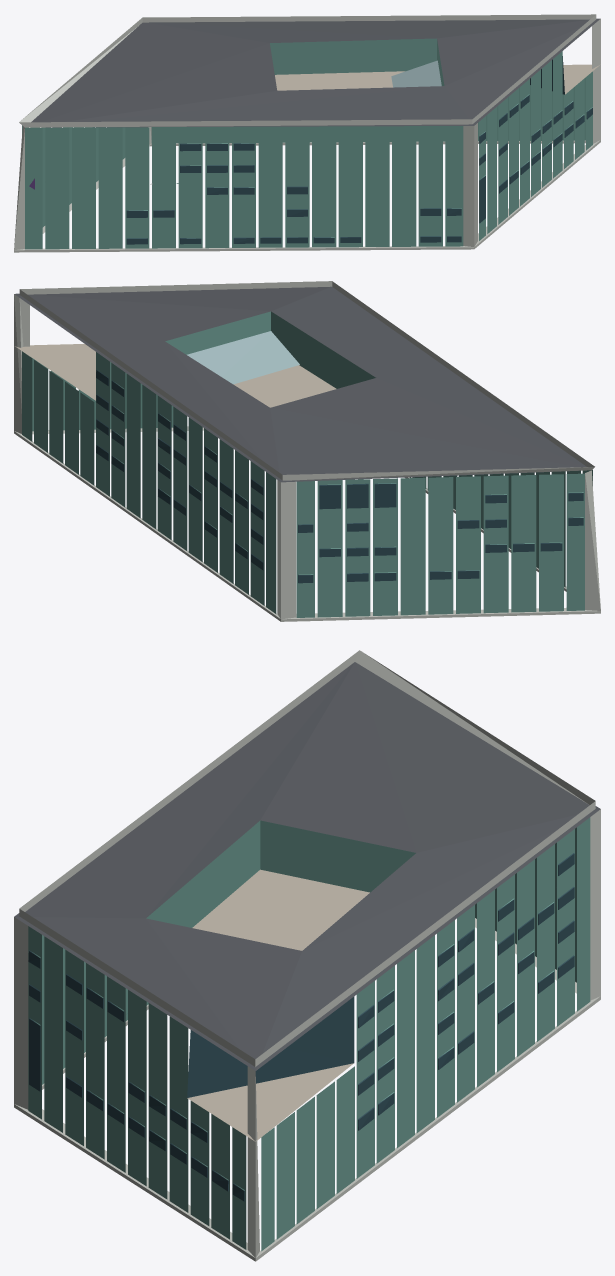
File: nfta-markenplein.lod2.glb
The picture shows the model from 3 angles, top to bottom: view 1: azimuth 30°, elevation 25°; view 2: azimuth 150°, elevation 25°; view 3: azimuth 270°, elevation 25°; orthographic projection. The views are drawn at different scales.
Parts seen in each view (by area): view 1: lod2; view 2: lod2; view 3: lod2.
Part boxes in pixels (<box>): lod2: <box>14,14,600,252</box>; lod2: <box>14,281,600,621</box>; lod2: <box>14,650,600,1261</box>.
Bounding box in the file's own units: 87.14 × 19.39 × 51.89.
